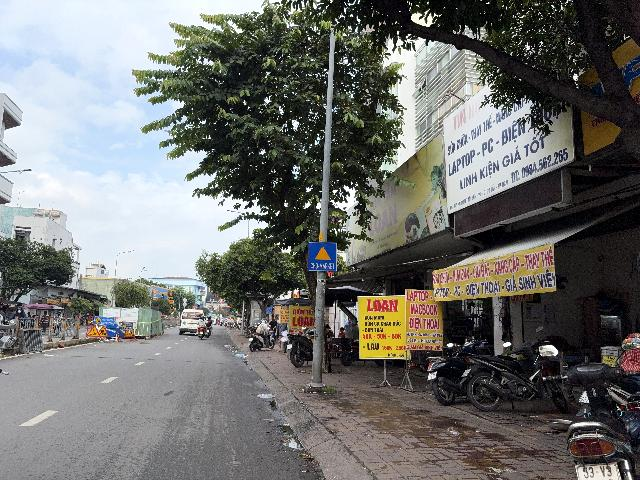khu-vuc-cho-phia-truoc: (308, 242, 337, 272)
